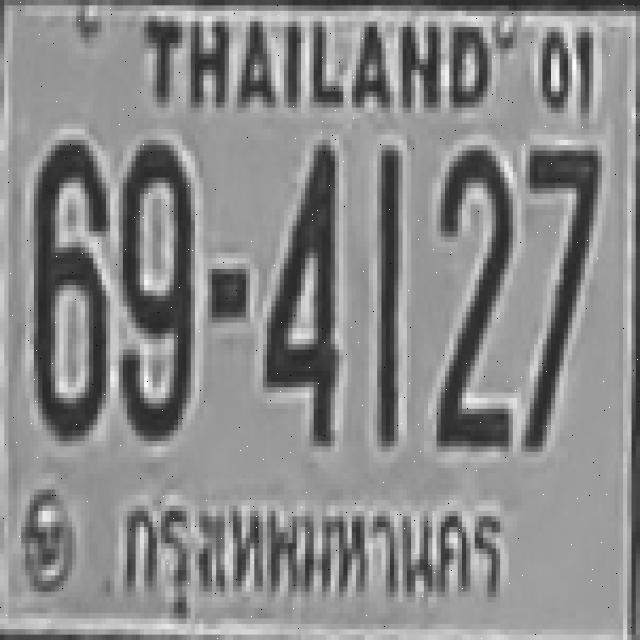0: (123, 140, 195, 328)
2: (434, 145, 510, 393), (434, 202, 510, 444)
4: (261, 137, 337, 438)
6: (38, 137, 110, 433)
7: (526, 146, 598, 334), (526, 146, 598, 312)
9: (121, 150, 197, 436)
Bangkok: (111, 487, 521, 626)
